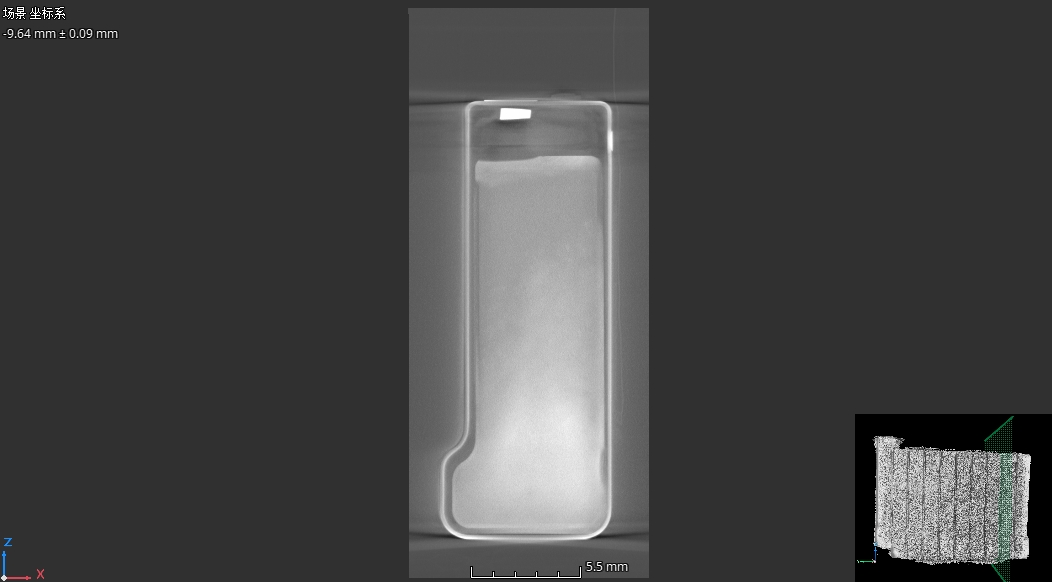damage: (597, 448, 607, 487)
